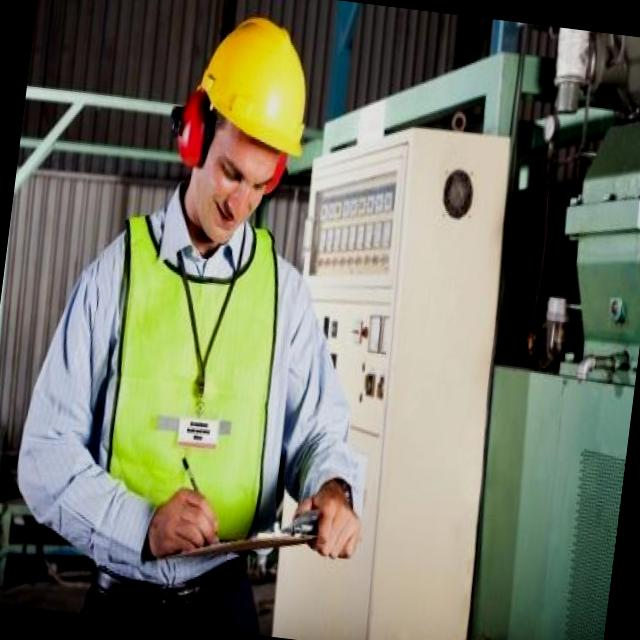helmet: (192, 10, 318, 164)
vest: (87, 198, 296, 590)
